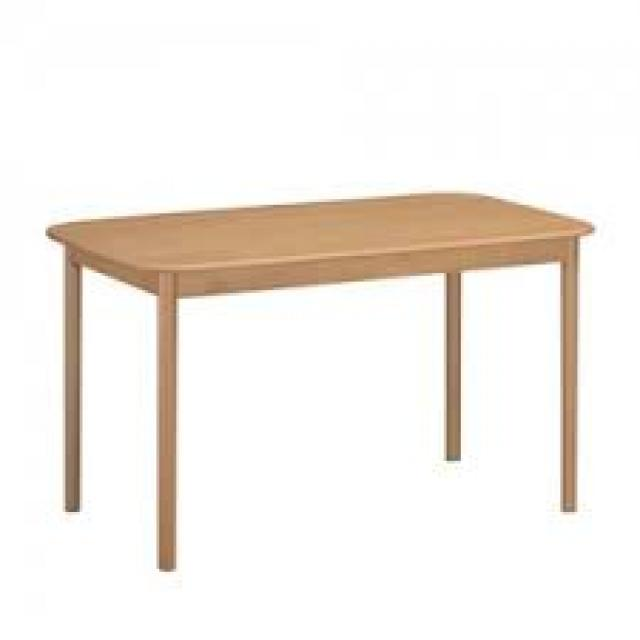Table: (34, 180, 601, 582)
